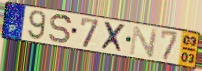7: (79, 17, 101, 49), (159, 28, 179, 62)
9: (25, 10, 48, 41)
N: (128, 25, 160, 58)
S: (48, 13, 73, 46)
X: (100, 20, 127, 55)
